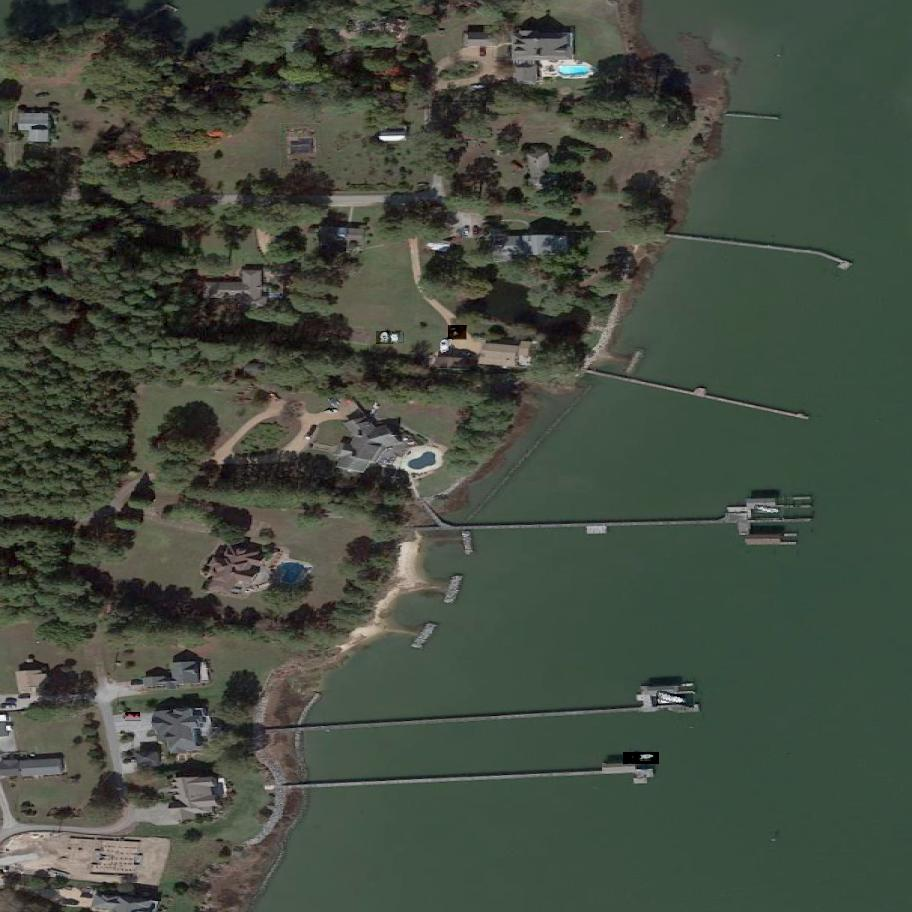ship: (656, 692, 695, 710), (754, 506, 785, 520), (623, 753, 659, 763), (440, 339, 454, 355), (376, 331, 392, 344), (393, 333, 403, 342)
small-vehicle: (448, 324, 467, 341), (319, 407, 340, 418), (125, 713, 142, 722)
